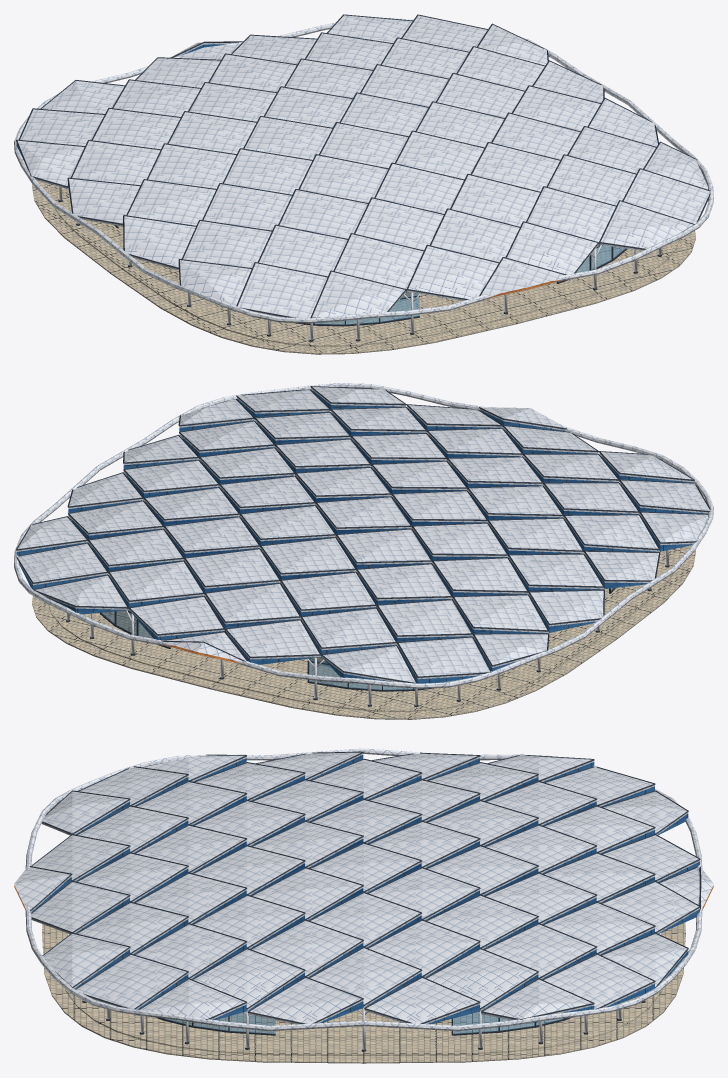
Rendered from landmark_gradient_canopy.glb.
3 views of the same model, one above another, from view 1: azimuth 30°, elevation 25°; view 2: azimuth 150°, elevation 25°; view 3: azimuth 270°, elevation 25° (orthographic). The views are drawn at different scales.
Parts seen in each view (by area): view 1: GC_DragonscaleCanopy, GC_TravertinePodium, GC_DarkSteelFrames, GC_AtriumGlass, GC_SteelColonnades; view 2: GC_DragonscaleCanopy, GC_DarkSteelFrames, GC_TravertinePodium, GC_Skylights, GC_AtriumGlass, GC_SteelColonnades; view 3: GC_DragonscaleCanopy, GC_TravertinePodium, GC_DarkSteelFrames, GC_Skylights, GC_AtriumGlass, GC_SteelColonnades.
Part boxes in pixels (x1,y1,x2,y2): GC_DragonscaleCanopy: (14,15,713,323); GC_TravertinePodium: (32,180,695,354); GC_DarkSteelFrames: (16,14,710,341); GC_AtriumGlass: (117,225,625,324); GC_SteelColonnades: (59,187,661,340); GC_DragonscaleCanopy: (14,383,713,688); GC_DarkSteelFrames: (16,386,710,707); GC_TravertinePodium: (32,438,695,719); GC_Skylights: (16,389,707,683); GC_AtriumGlass: (101,438,613,689); GC_SteelColonnades: (66,456,668,705); GC_DragonscaleCanopy: (14,748,713,1031); GC_TravertinePodium: (42,881,685,1063); GC_DarkSteelFrames: (30,751,701,1051); GC_Skylights: (31,755,699,1024); GC_AtriumGlass: (164,1009,563,1033); GC_SteelColonnades: (67,933,660,1049).
Bounding box in the file's own units: 89.8 × 11.2 × 96.73.
17 materials, 5 textured.
